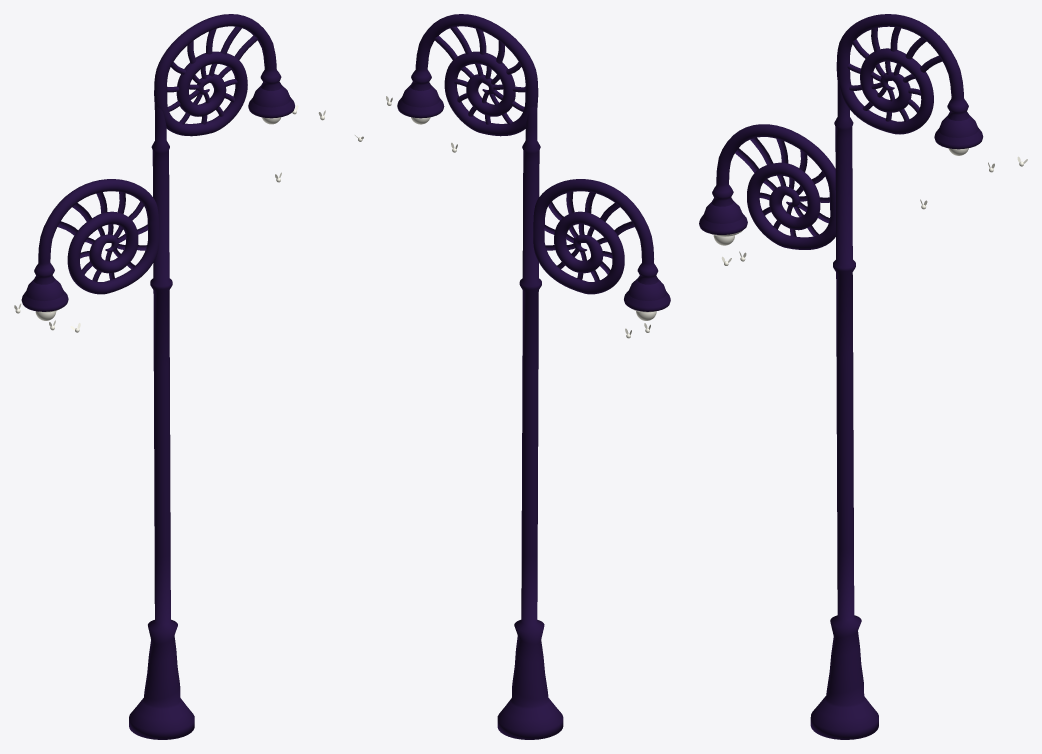
File: hw_poste.obj
3 views of the same model, side by side, from view 1: azimuth 30°, elevation 25°; view 2: azimuth 150°, elevation 25°; view 3: azimuth 330°, elevation 25° (orthographic). The views are drawn at different scales.
Visible parts, largest first — view 1: poste_Luz_DarkMetal, poste_Luz_Light; view 2: poste_Luz_DarkMetal; view 3: poste_Luz_DarkMetal, poste_Luz_Light.
Part boxes in pixels (x1,y1,x2,y2): poste_Luz_DarkMetal: (21, 14, 294, 739); poste_Luz_Light: (14, 105, 325, 332); poste_Luz_DarkMetal: (397, 14, 670, 739); poste_Luz_DarkMetal: (699, 14, 983, 739); poste_Luz_Light: (711, 148, 1027, 265).
Bounding box in the file's own units: 1.95 × 4.43 × 0.483.
